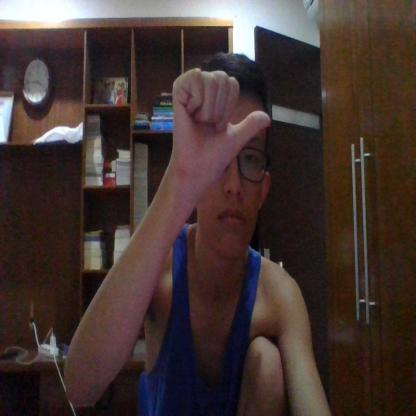left: (171, 64, 274, 194)
